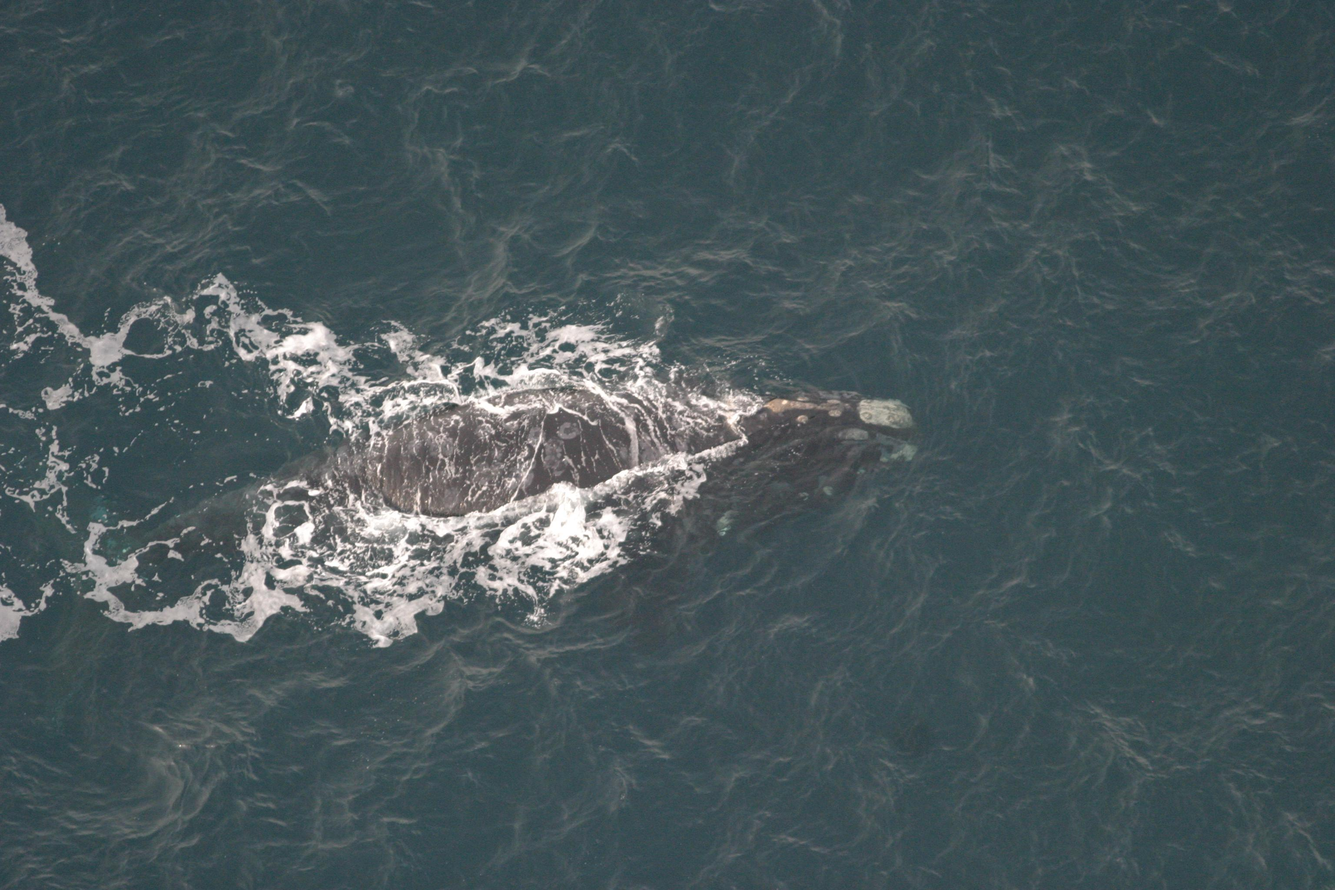whale: (17, 363, 928, 712)
